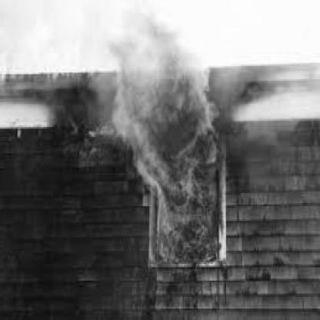Fire: (109, 2, 223, 264)
